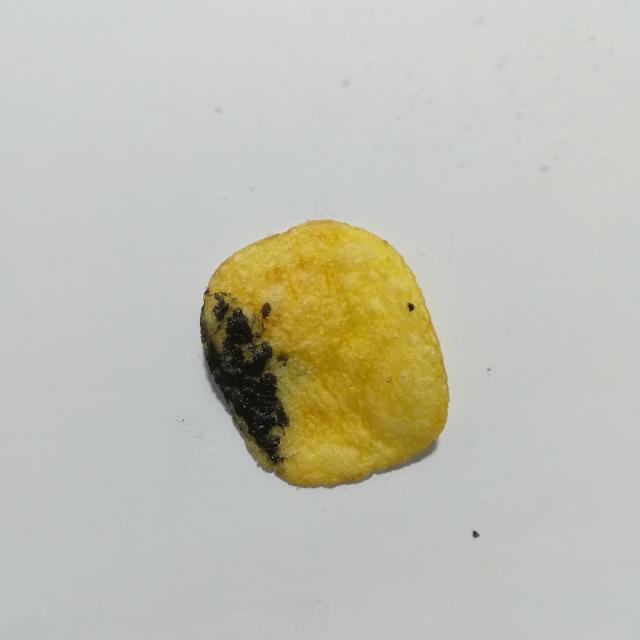chip: (200, 220, 449, 485)
damaged: (201, 307, 289, 463), (213, 293, 229, 322), (260, 302, 271, 318), (278, 352, 289, 363), (407, 302, 415, 312)
